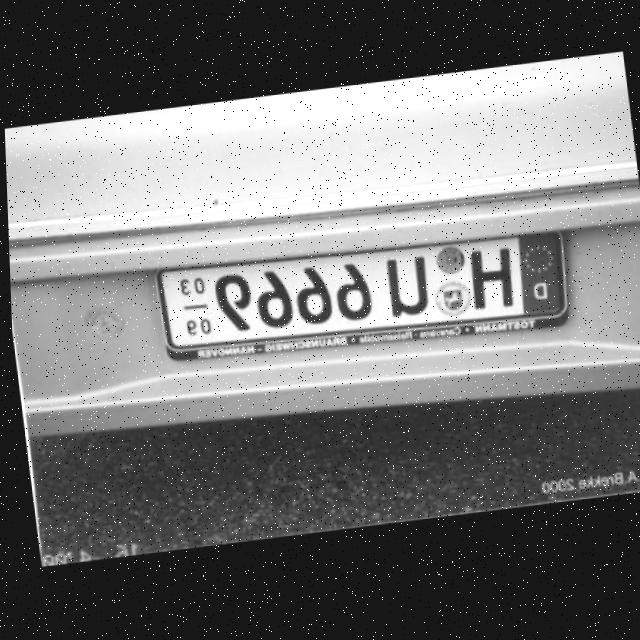license-plates: (160, 234, 566, 353)
